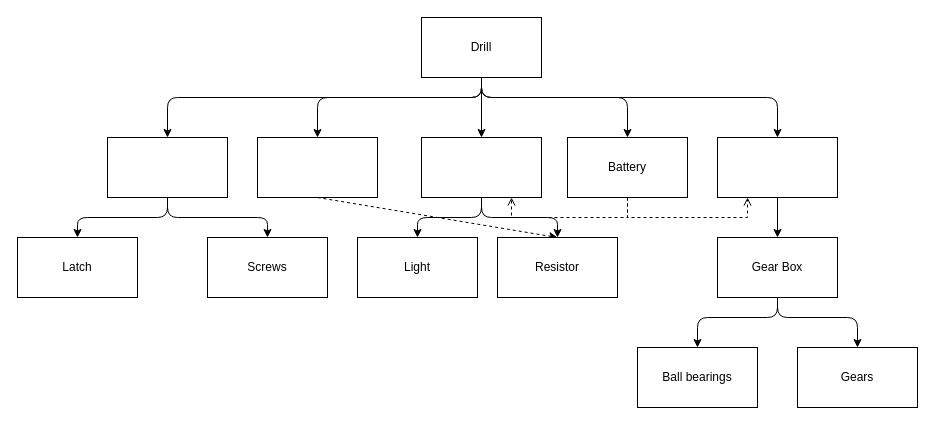
This 935x425 diagram has some shape labels left out. The shapes that lost their labels are listed below. From the top down, each one's centre as x and y in pixels, then its label:
At (x=167, y=167): "Casing".
At (x=317, y=167): "Direction Switch".
At (x=481, y=167): "Trigger".
At (x=777, y=167): "Motor".
